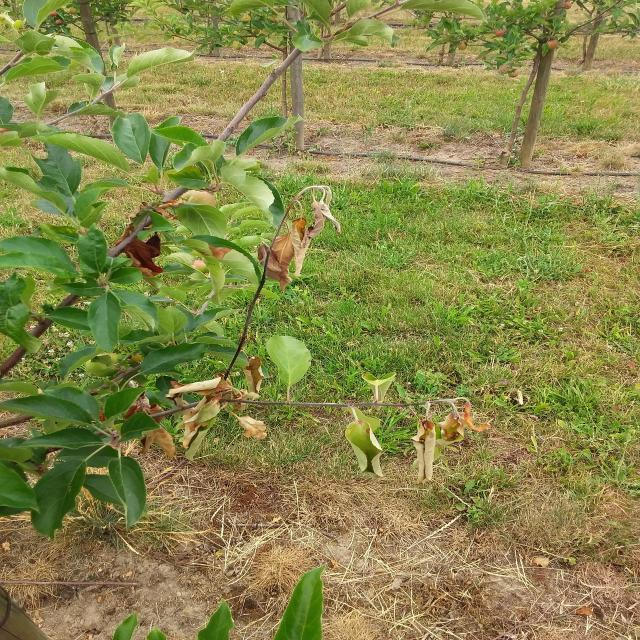-FireBlight-: (271, 173, 336, 287), (414, 397, 480, 471)
